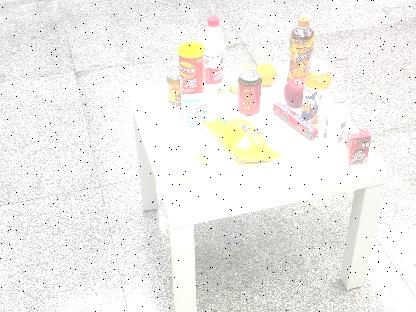Can: (238, 70, 260, 116), (166, 68, 182, 106)
Others: (178, 91, 214, 140), (177, 42, 206, 92), (343, 125, 373, 168)
Plastic Bottle: (198, 16, 226, 91)
